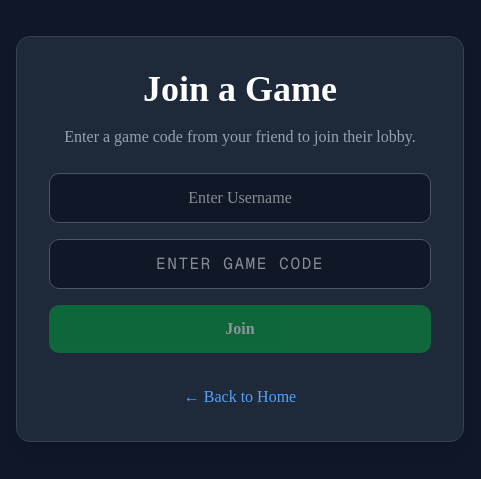
Test: JoinGamePage › displays generic error message when fetch throws
The width and height of the screenshot is (481, 479).
Type "Alice" into the field with placeholder "Enter Username" at (240, 198), box [49, 173, 431, 223]
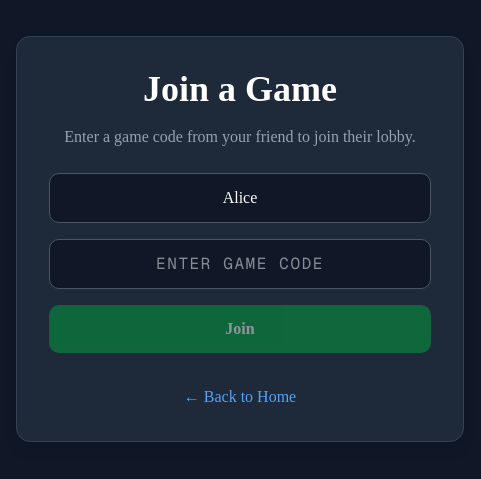
Type "XYZW" into the field with placeholder "Enter Game Code" at (240, 264), box [49, 239, 431, 289]
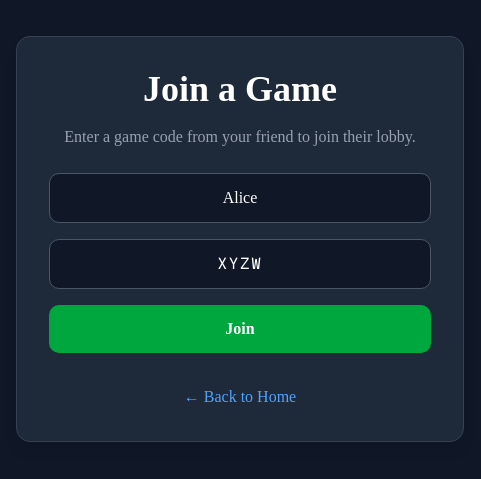
Click the button "Join" at (240, 329), box [49, 305, 431, 353]
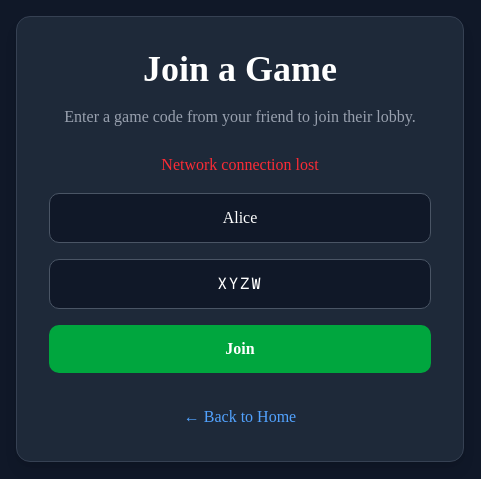
expect the text "Network connection lost" is shown: met, box [161, 156, 319, 173]
